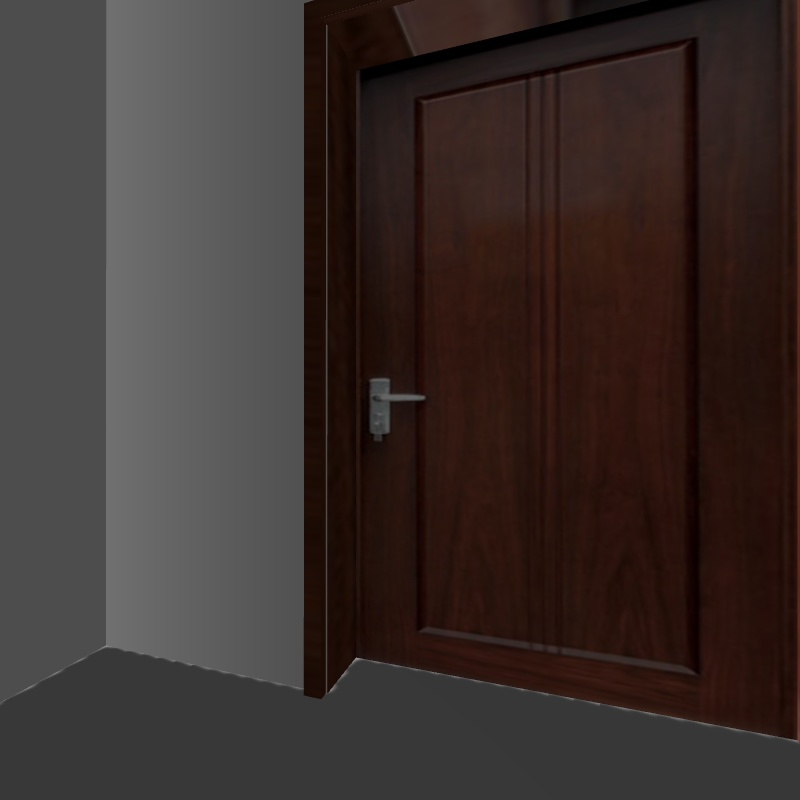handle: (346, 367, 424, 446)
